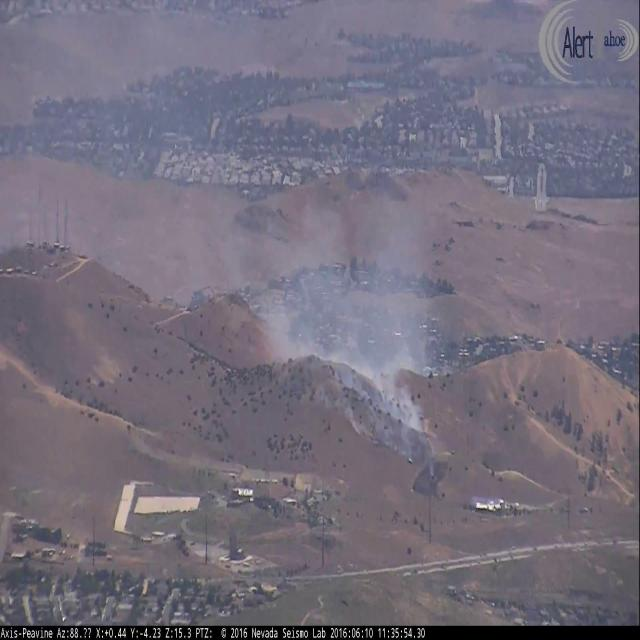smoke: (130, 101, 453, 492)
